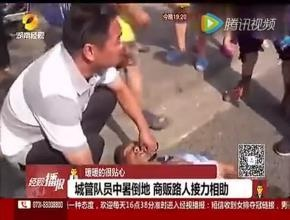falling: (108, 128, 278, 205)
